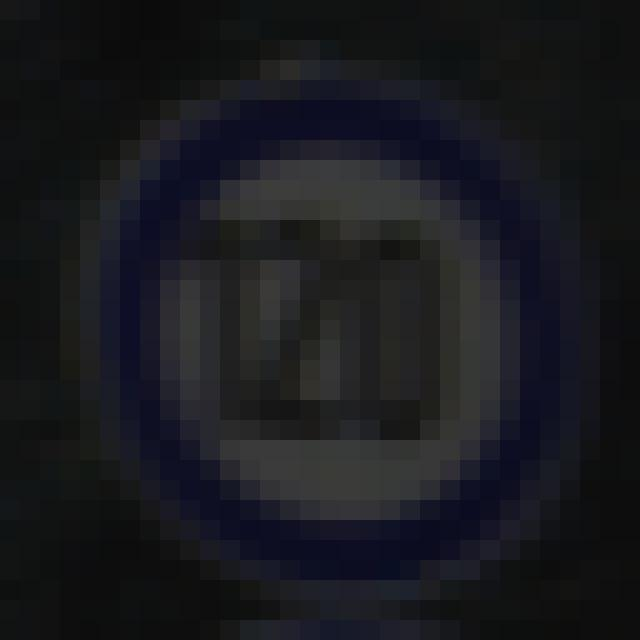SPEED LIMIT 120: (68, 90, 574, 562)
